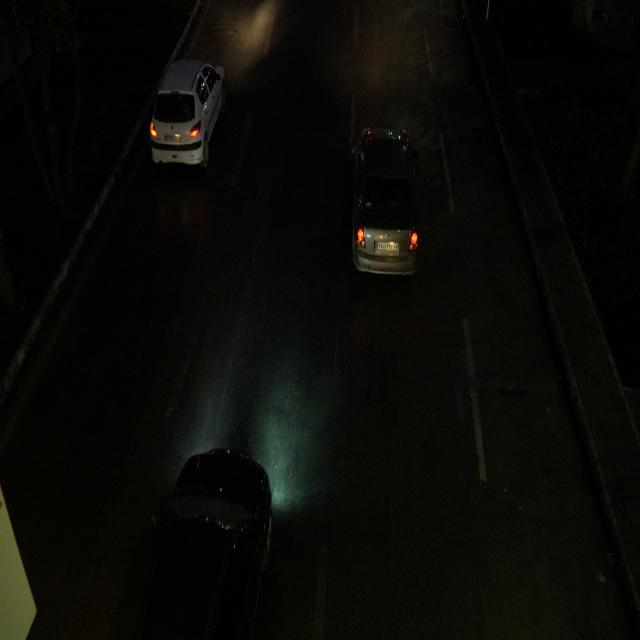car: (136, 446, 282, 640), (350, 101, 422, 272), (149, 56, 229, 170)
